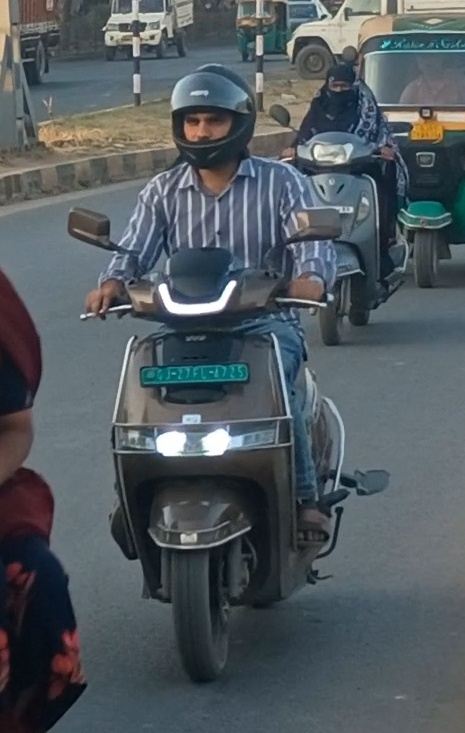BikeWithRider: (52, 56, 391, 684), (280, 57, 397, 355)
Helmet: (160, 56, 268, 170)
NoHelmet: (318, 56, 364, 103)
